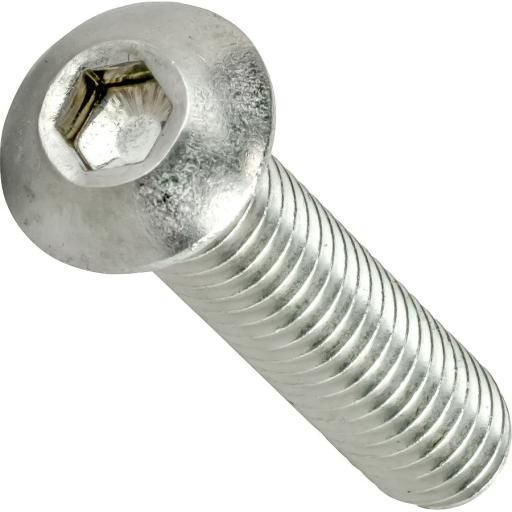Hex-Allen: (2, 2, 273, 274)
